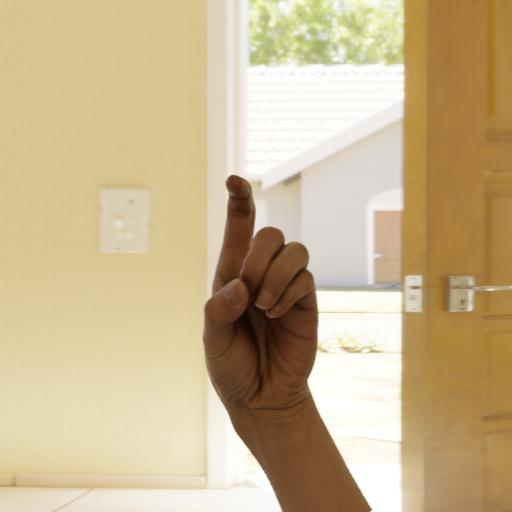X: (194, 160, 330, 481)
